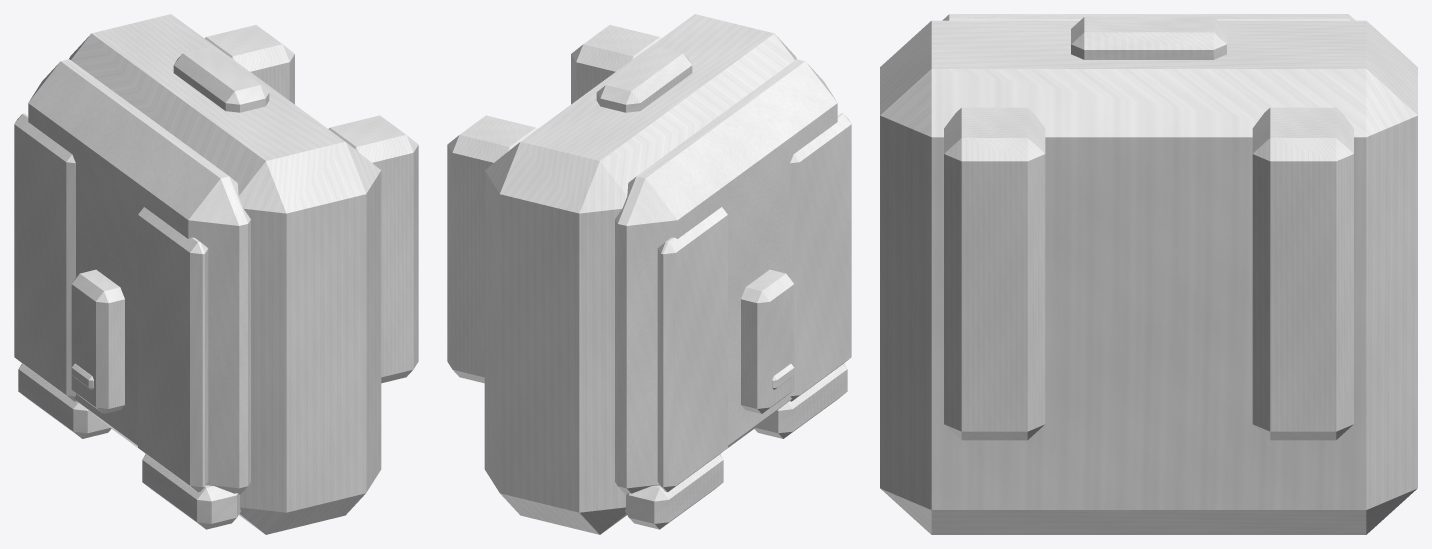
Rendered from Field_Medic_Rescue_Pack_LOD0.glb.
The picture shows the model from 3 angles, left to right: view 1: azimuth 30°, elevation 25°; view 2: azimuth 150°, elevation 25°; view 3: azimuth 270°, elevation 25°; orthographic projection. The views are drawn at different scales.
Visible parts, largest first — view 1: Field_Medic_Rescue_Pack_LOD0; view 2: Field_Medic_Rescue_Pack_LOD0; view 3: Field_Medic_Rescue_Pack_LOD0.
Boxes of the visible parts, x1=… form: Field_Medic_Rescue_Pack_LOD0: x1=14, y1=14, x2=418, y2=534; Field_Medic_Rescue_Pack_LOD0: x1=447, y1=14, x2=851, y2=534; Field_Medic_Rescue_Pack_LOD0: x1=880, y1=14, x2=1417, y2=534.
Bounding box in the file's own units: 0.258 × 0.3665 × 0.366.
3 materials, 3 textured.
